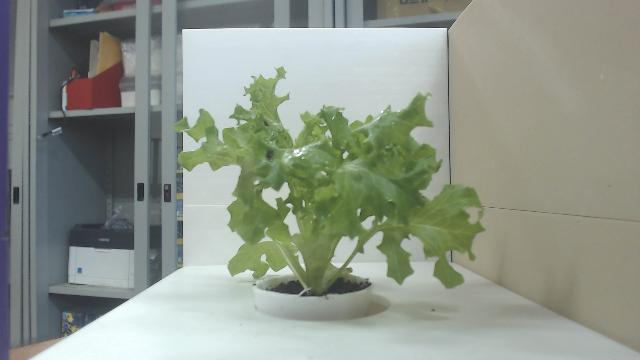Harvest Stage: (172, 64, 486, 292)
